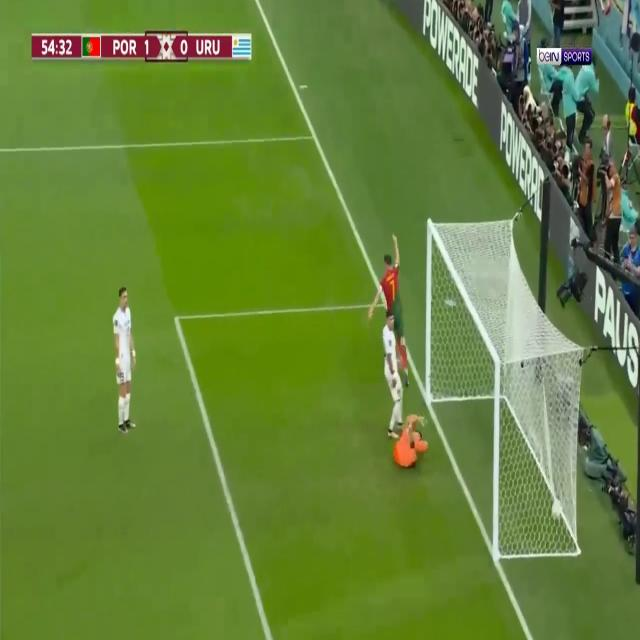ball: (552, 500, 561, 520)
team1: (369, 230, 410, 388)
team2: (108, 284, 141, 434), (382, 314, 402, 439)
